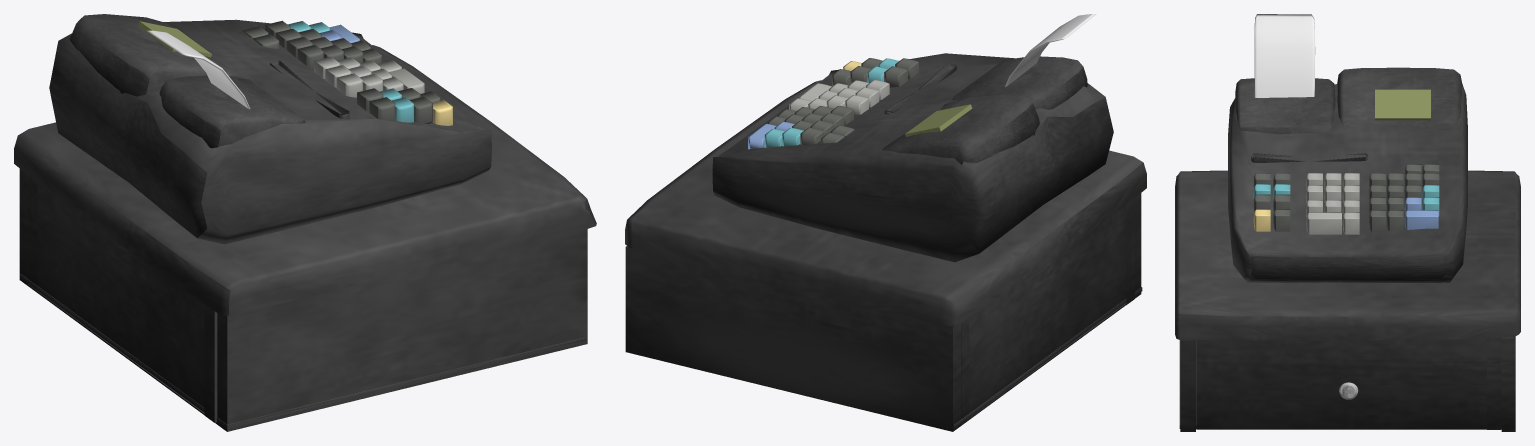
File: caja_registradora.obj
3 renders of one model, left to right at view 1: azimuth 30°, elevation 25°; view 2: azimuth 150°, elevation 25°; view 3: azimuth 270°, elevation 25°, orthographic. The views are drawn at different scales.
Visible parts, largest first — view 1: caja_registradora; view 2: caja_registradora; view 3: caja_registradora.
Part boxes in pixels (x1=…): caja_registradora: x1=14, y1=14, x2=596, y2=431; caja_registradora: x1=625, y1=14, x2=1146, y2=431; caja_registradora: x1=1175, y1=14, x2=1520, y2=431.
Size of the model in its own units: 4.07 by 3.52 by 3.98.
Materials: 12 (12 with a texture image).
